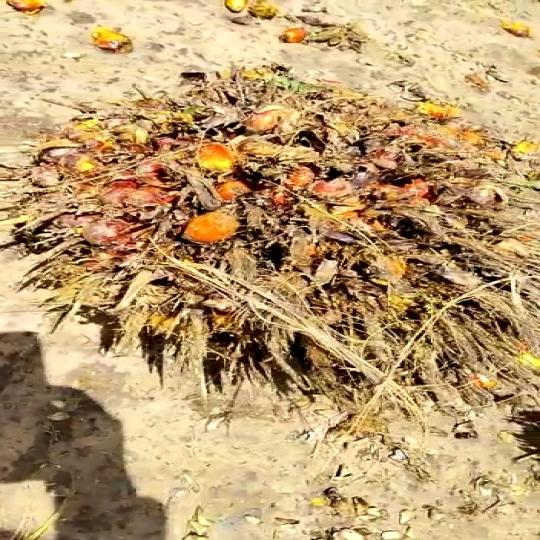terlalu masak: (7, 63, 540, 425)
